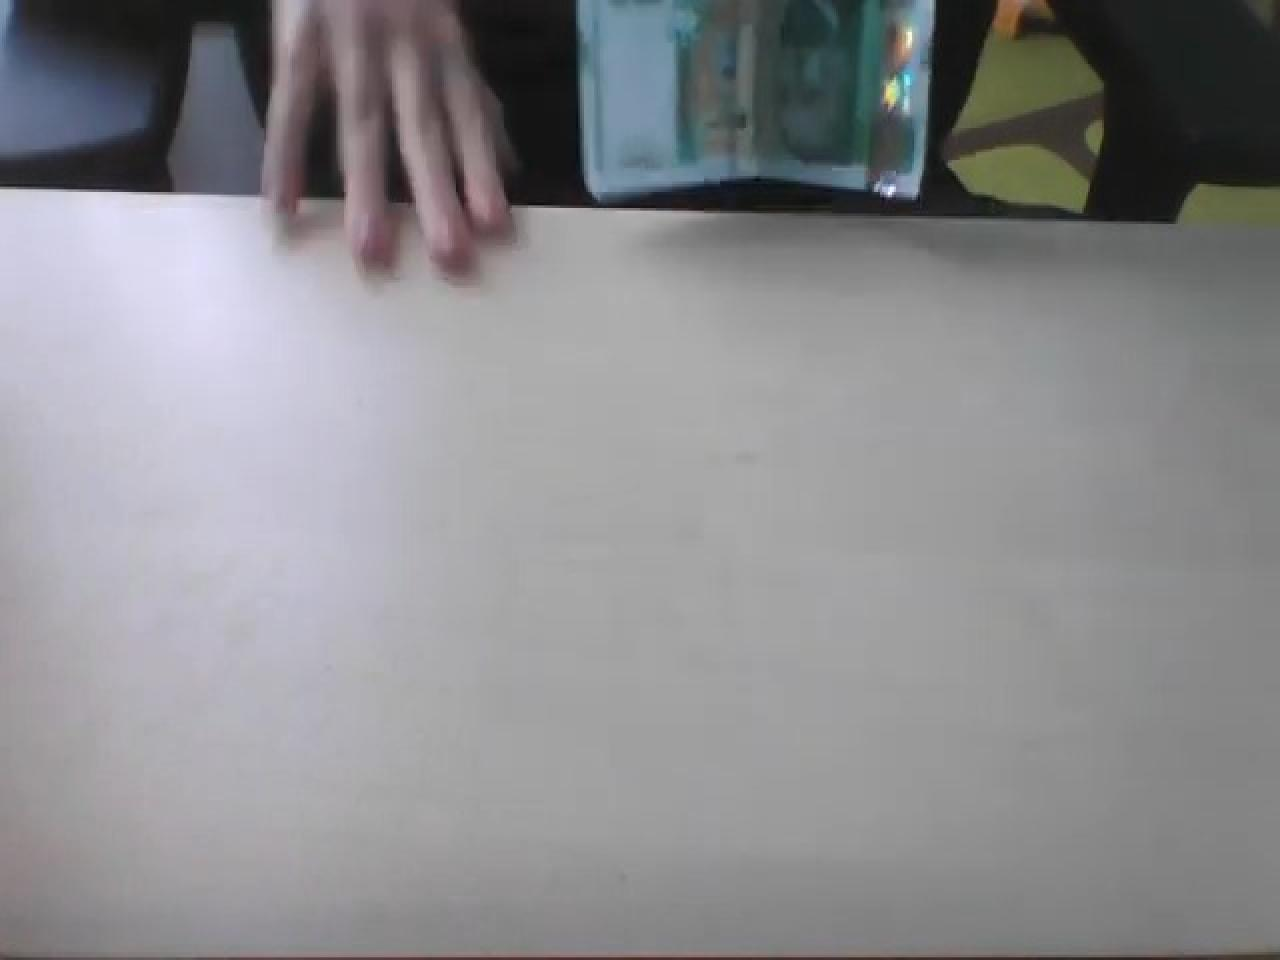100leva: (574, 0, 938, 205)
